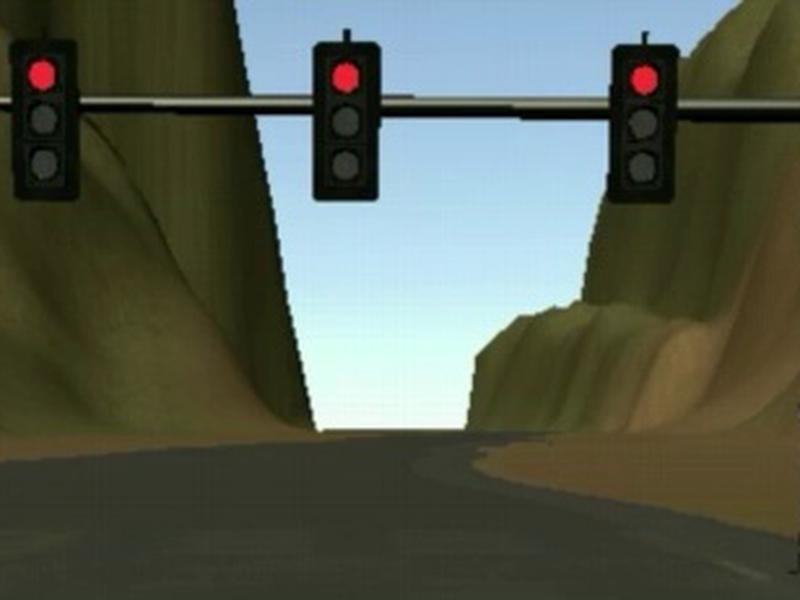Red: (608, 43, 679, 203), (11, 38, 79, 201), (314, 41, 382, 202)
